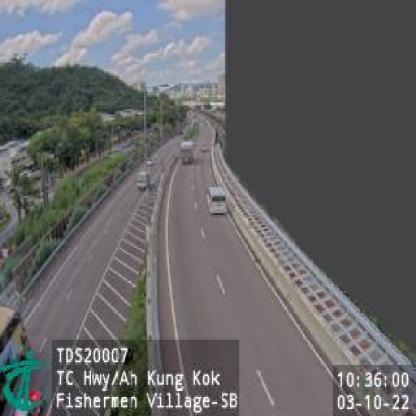Car: (207, 187, 226, 213)
